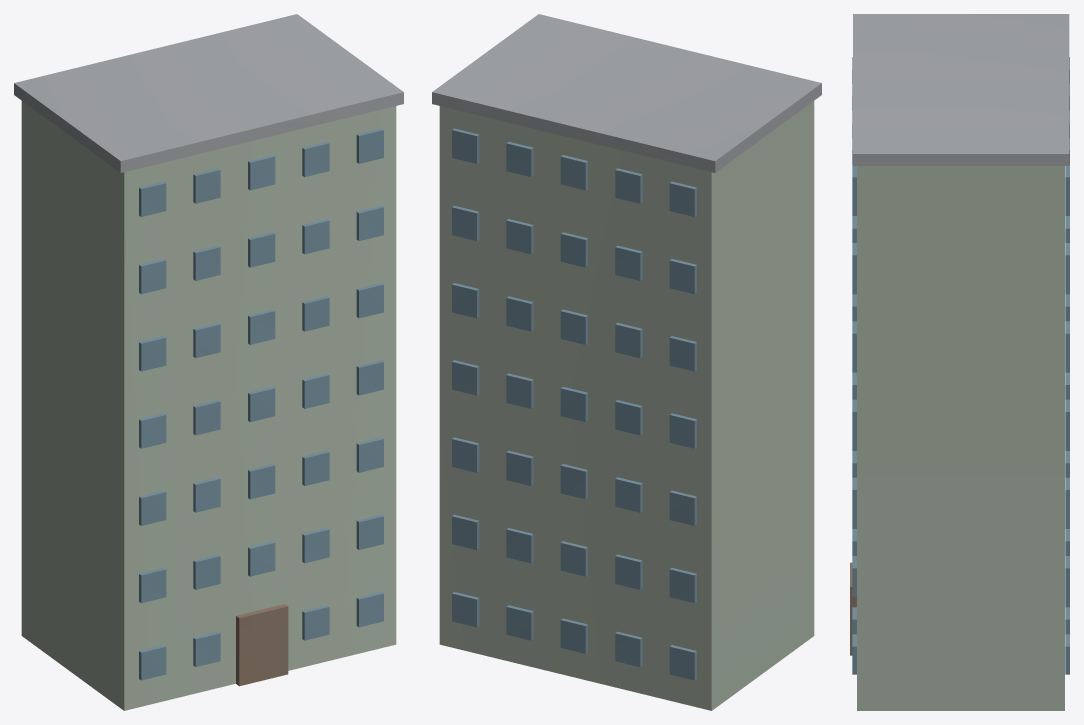
File: apartment-05.glb
3 views of the same model, side by side, from view 1: azimuth 30°, elevation 25°; view 2: azimuth 150°, elevation 25°; view 3: azimuth 270°, elevation 25° (orthographic).
Visible parts, largest first — view 1: world; view 2: world; view 3: world.
Part boxes in pixels (left/top/right/bottom): world: left=14, top=14, right=403, bottom=710; world: left=432, top=14, right=821, bottom=710; world: left=850, top=14, right=1069, bottom=710.
Size of the model in its own units: 1.74 by 3.25 by 1.16.
